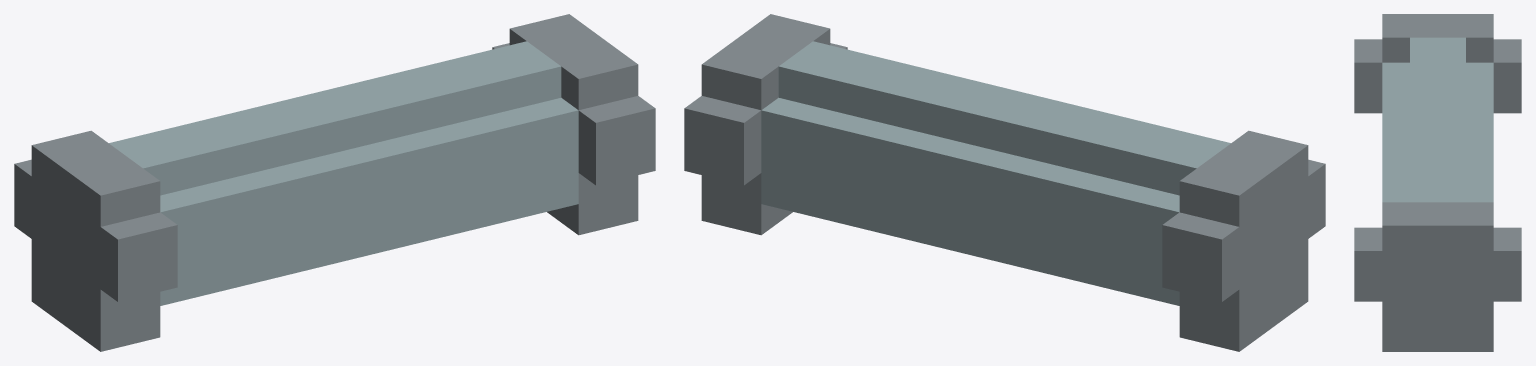
Rendered from fuse.glb.
3 views of the same model, side by side, from view 1: azimuth 30°, elevation 25°; view 2: azimuth 150°, elevation 25°; view 3: azimuth 270°, elevation 25° (orthographic). The views are drawn at different scales.
Visible parts, largest first — view 1: fuse:fuse; view 2: fuse:fuse; view 3: fuse:fuse.
Boxes of the visible parts, x1,y1,x2,y2 form: fuse:fuse: (14, 14, 655, 351); fuse:fuse: (684, 14, 1325, 351); fuse:fuse: (1354, 14, 1521, 351).
Bounding box in the file's own units: 0.072 × 0.02 × 0.024.
